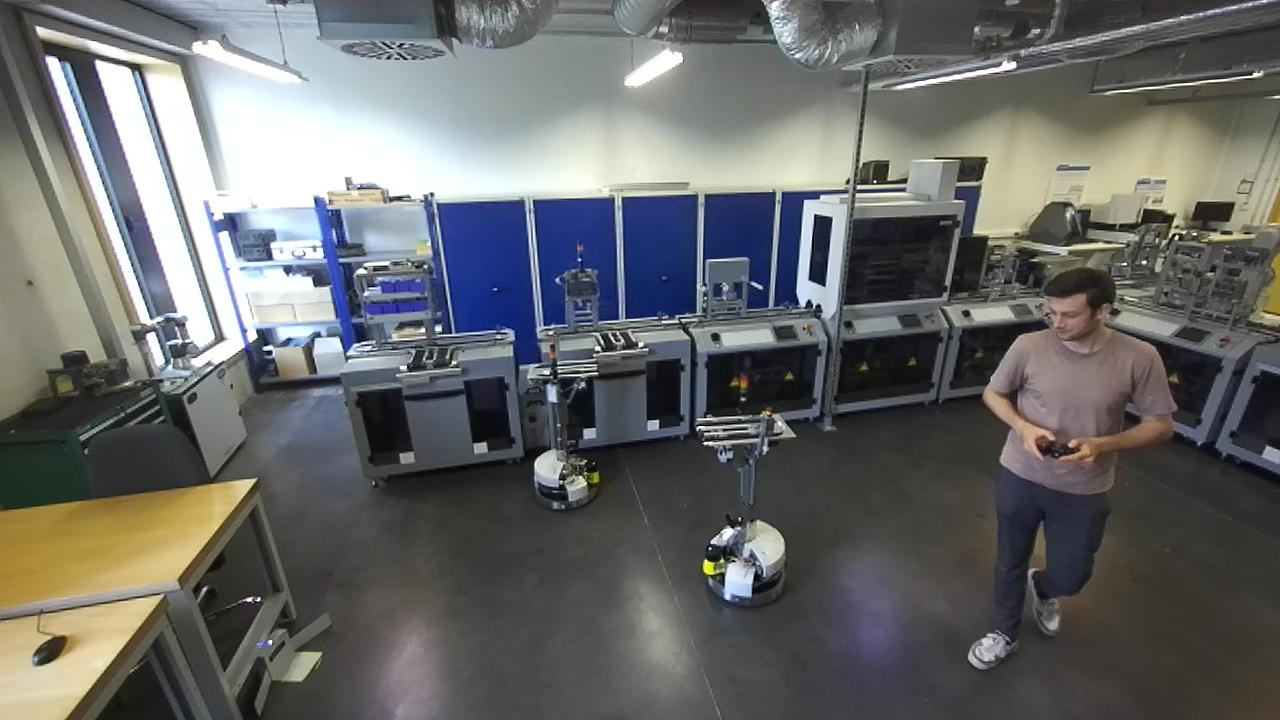AMR: (695, 364, 797, 606), (520, 328, 604, 511)
Human: (955, 265, 1178, 672)
